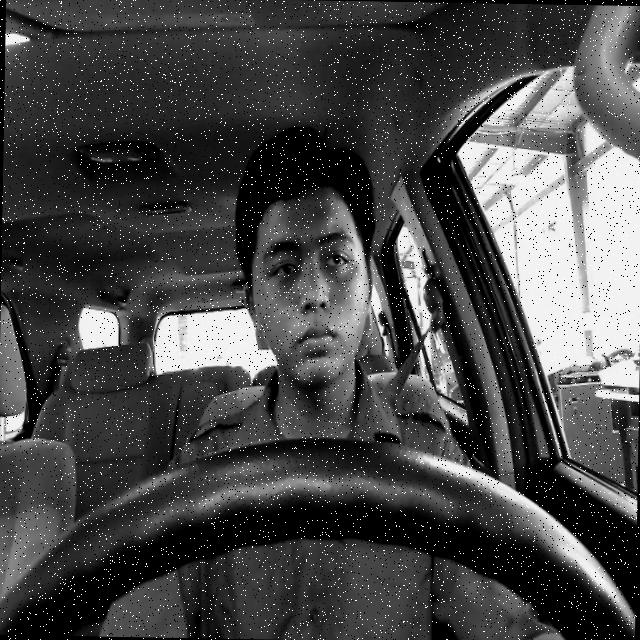focused: (242, 182, 376, 388)
